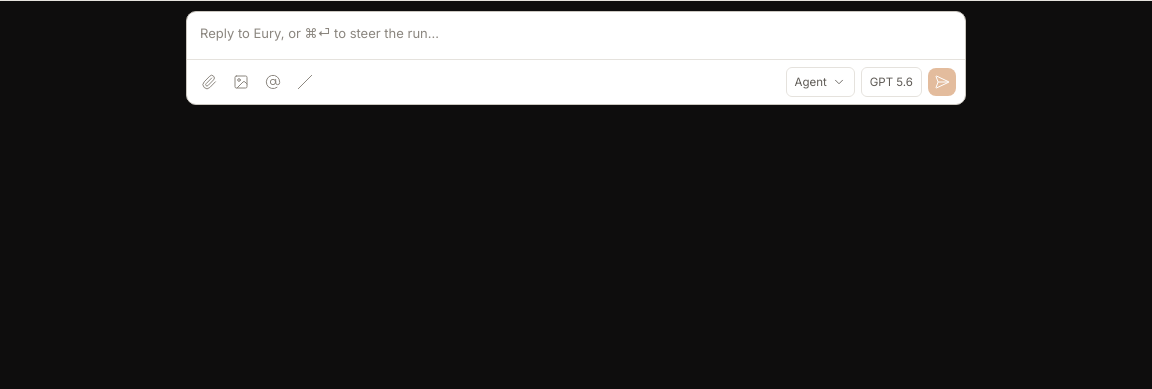
Test: Composer mode picker › opens with every run mode and its description
This screenshot has width=1152, height=389.
Step 1. Click the button with class "select" showing "Agent" → (820, 82), box [786,67,855,97]
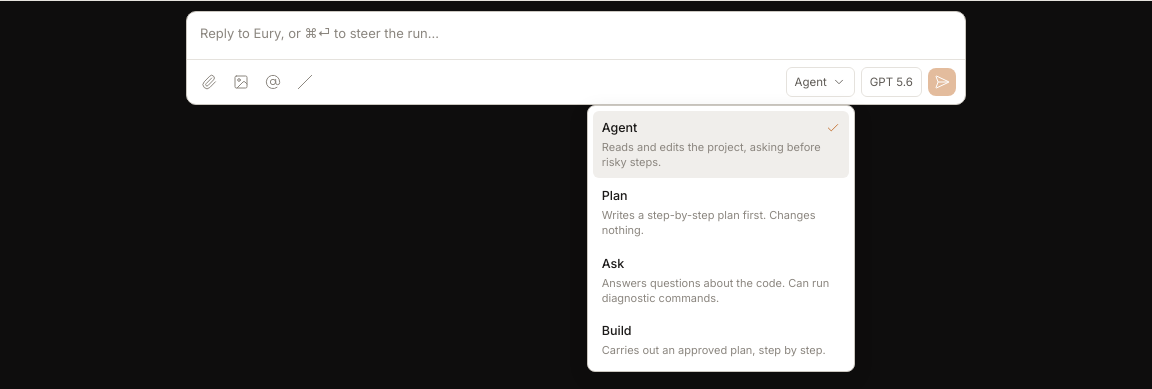
Result: the number of options with class "mode-picker-item" is 4 at [593,111,849,178]; [593,179,849,246]; [593,247,849,313]; [593,314,849,366]
Result: the text "Reads and edits the project, asking before risky steps." is shown at [602,140,840,171]
Result: the text "Plan" is shown at [602,188,628,203]
